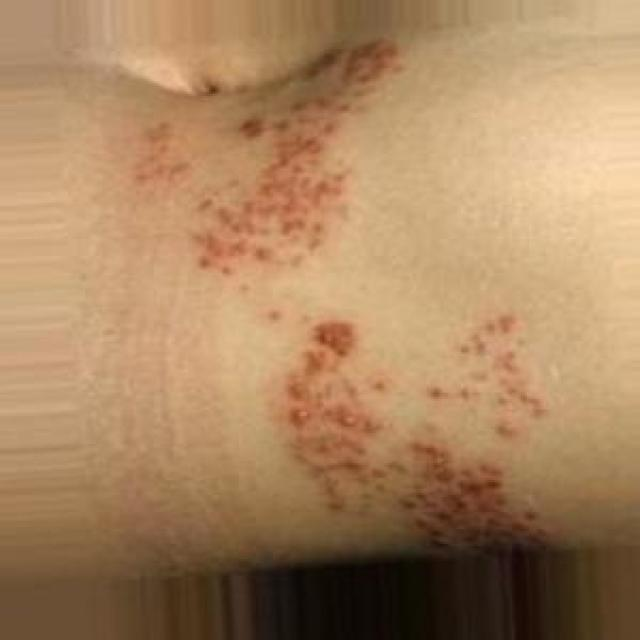Shingles: (256, 294, 562, 566), (128, 38, 408, 276)
